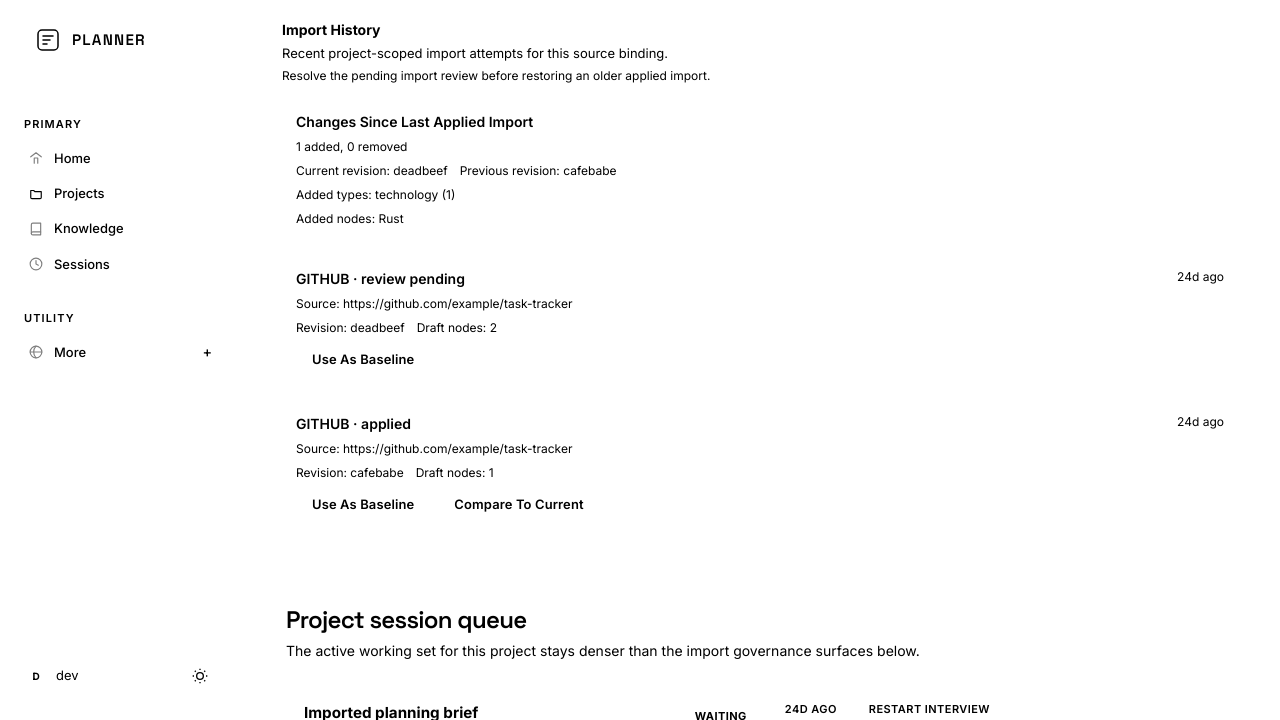
Test: ProjectSessionsPage import review › compares one history entry to a selected baseline entry
(page scrolled)
Click the button "Use As Baseline" below "review pending" at (363, 360), box left=296, top=343, right=430, bottom=377
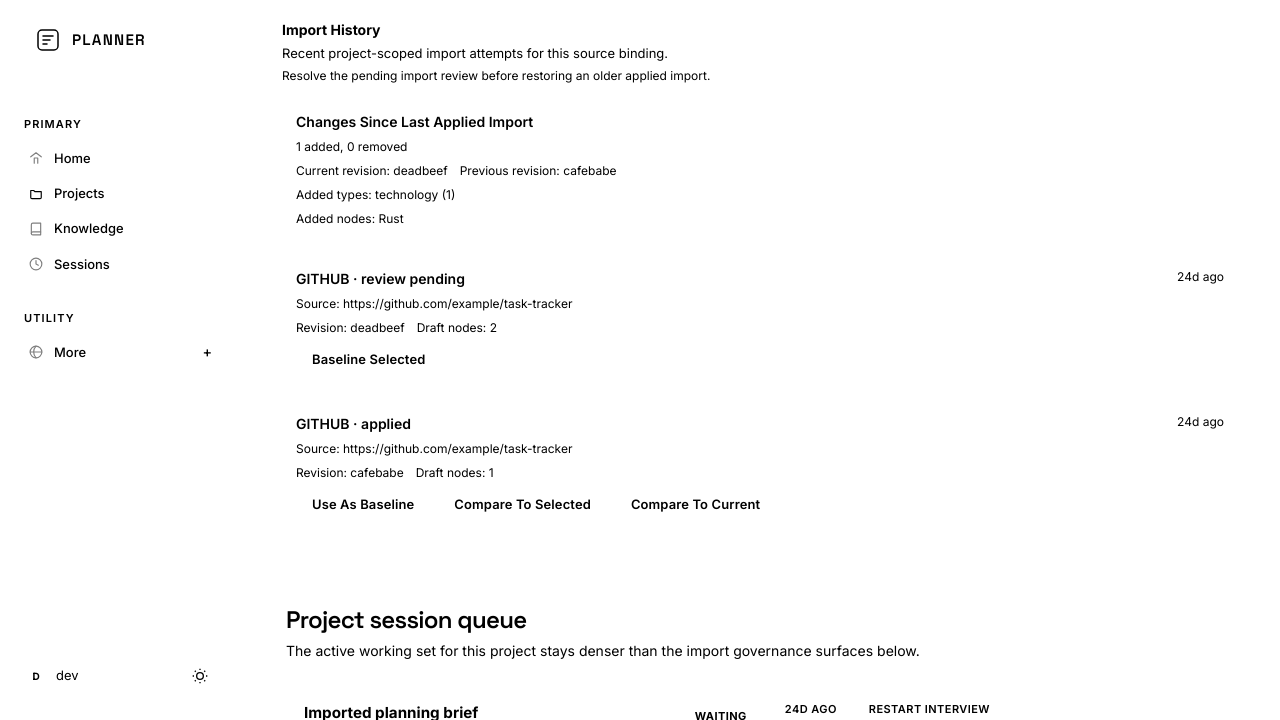
Check: the button "Baseline Selected" is shown, box left=296, top=343, right=442, bottom=377
Click the button "Compare To Selected" at (523, 504), box left=438, top=488, right=607, bottom=521
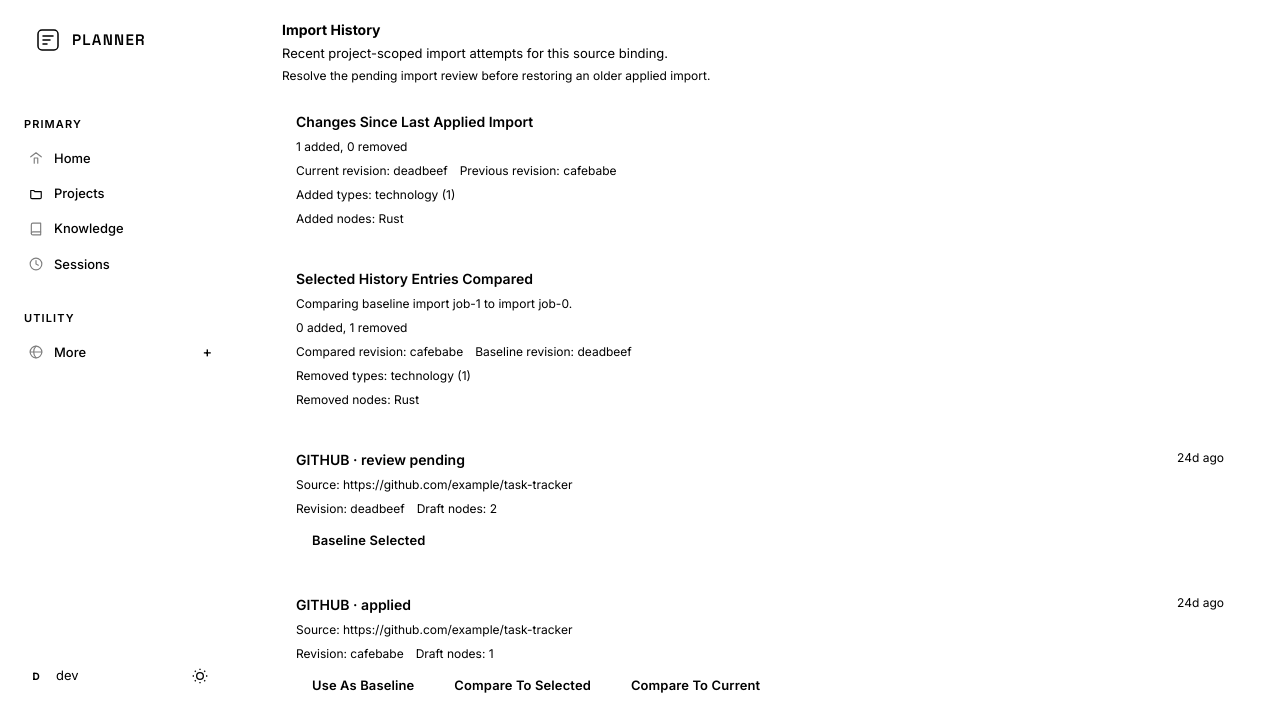
Check: the text "Selected History Entries Compared" is shown, box left=296, top=270, right=533, bottom=287
Check: the text "Comparing baseline import job-1 to import job-0." is shown, box left=296, top=296, right=572, bottom=311
Check: the text "Removed nodes: Rust" is shown, box left=296, top=392, right=419, bottom=407
Click the button "Use As Baseline" at (363, 685), box left=296, top=669, right=430, bottom=702
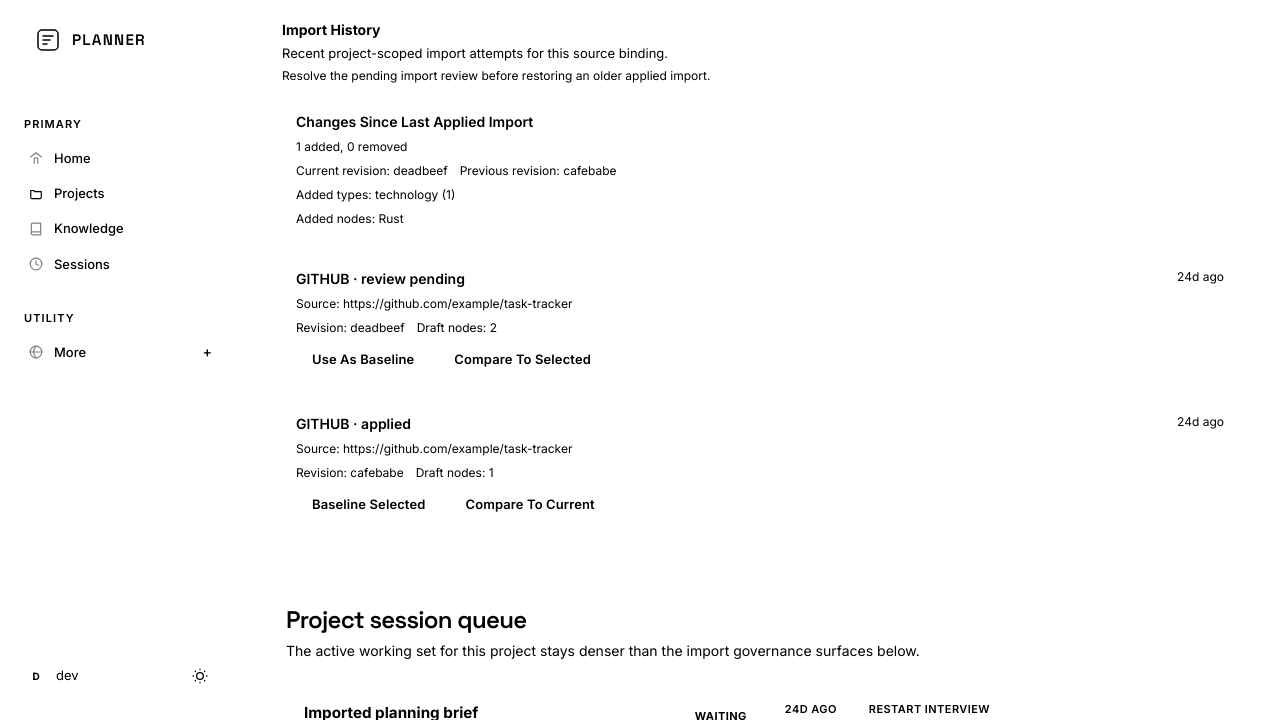
Check: the text "Selected History Entries Compared" is gone
